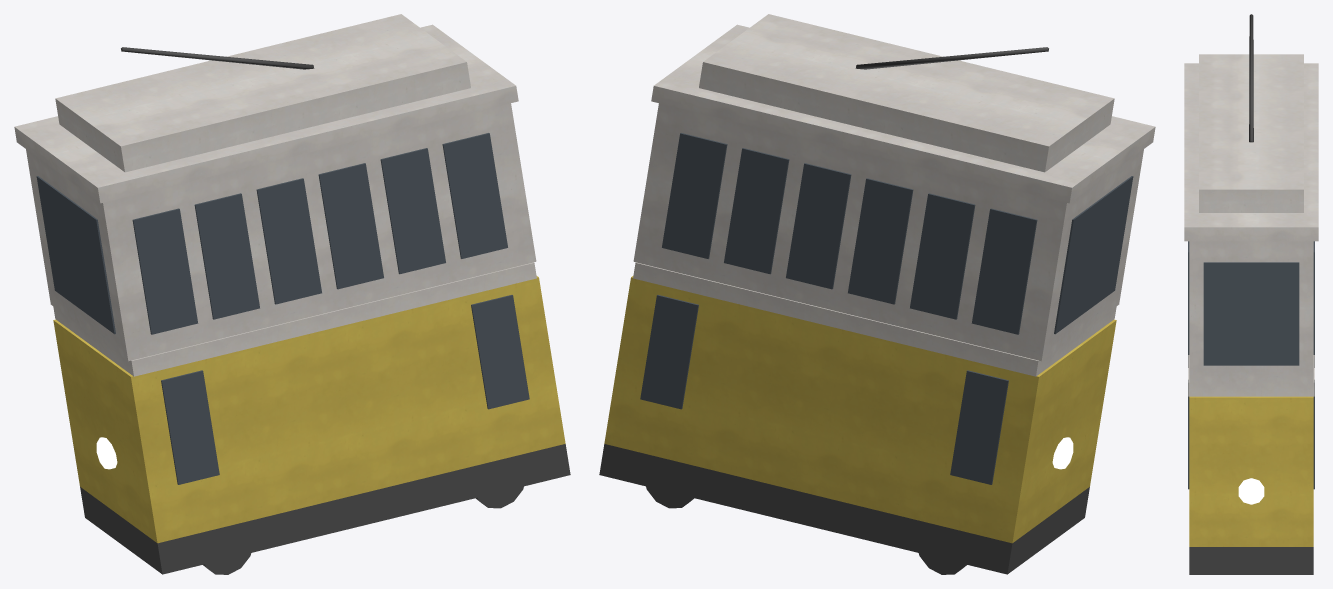
File: tramCar.gltf
3 views of the same model, side by side, from view 1: azimuth 30°, elevation 25°; view 2: azimuth 150°, elevation 25°; view 3: azimuth 270°, elevation 25° (orthographic). The views are drawn at different scales.
Parts seen in each view (by area): view 1: tramCar-bica-white, tramCar-bica-yellow, tramCar-car-glass, tramCar-chassis; view 2: tramCar-bica-white, tramCar-bica-yellow, tramCar-car-glass, tramCar-chassis; view 3: tramCar-bica-white, tramCar-bica-yellow, tramCar-car-glass, tramCar-chassis, tramCar-headlamp.
Part boxes in pixels (box(x1,y1,x2,y2)): tramCar-bica-white: box(14, 14, 536, 376); tramCar-bica-yellow: box(53, 276, 565, 543); tramCar-car-glass: box(36, 133, 529, 484); tramCar-chassis: box(80, 47, 570, 574); tramCar-bica-white: box(633, 14, 1155, 376); tramCar-bica-yellow: box(604, 276, 1116, 543); tramCar-car-glass: box(640, 133, 1133, 484); tramCar-chassis: box(599, 47, 1089, 574); tramCar-bica-white: box(1184, 54, 1318, 396); tramCar-bica-yellow: box(1189, 396, 1313, 546); tramCar-car-glass: box(1188, 241, 1314, 489); tramCar-chassis: box(1189, 14, 1313, 574); tramCar-headlamp: box(1238, 478, 1264, 504).
Size of the model in its own units: 9.21 by 9.64 by 2.8.
5 materials, 2 textured.
